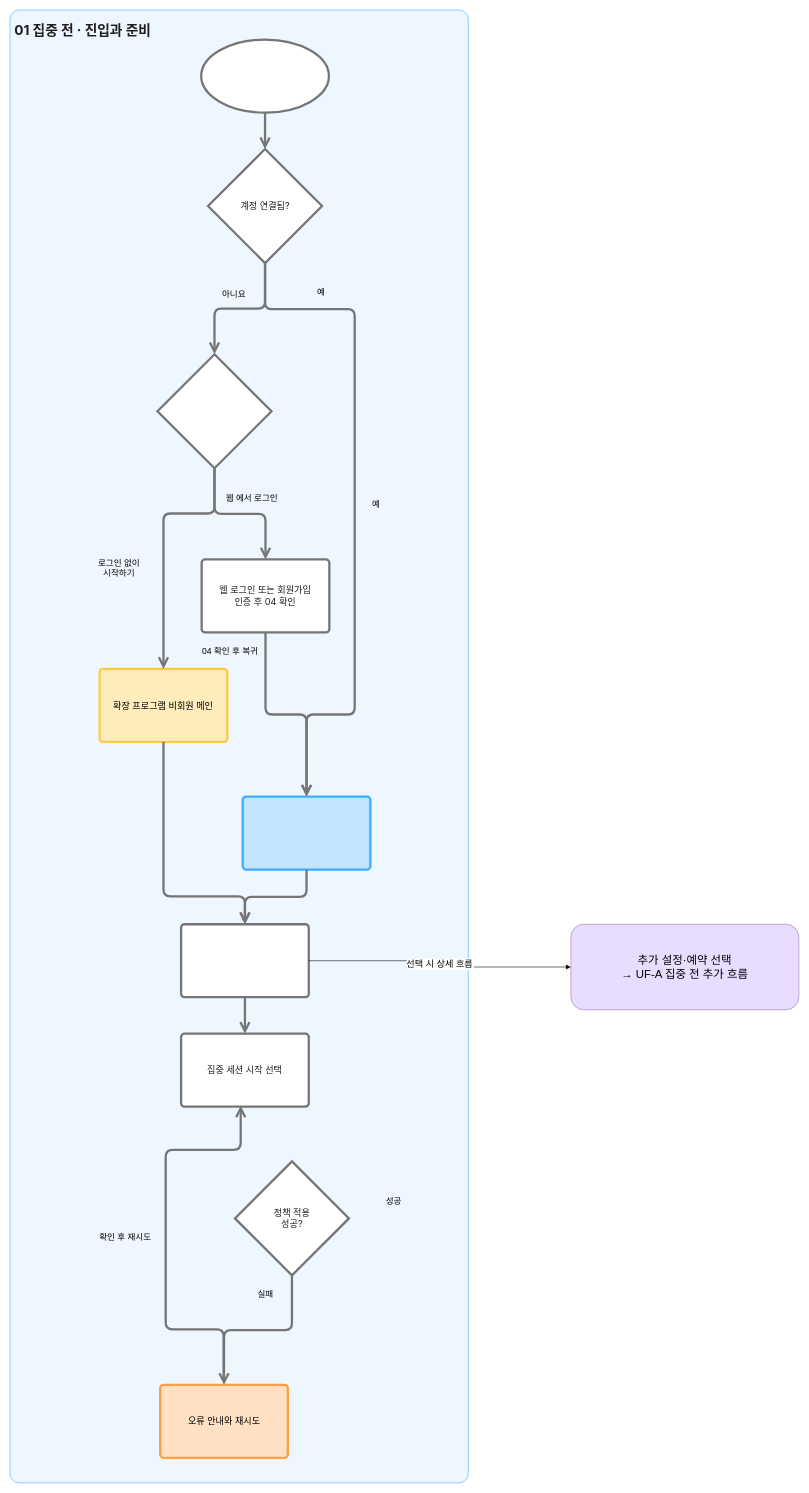
Some shapes in this 809 by 1493 pixel diagram are drawn without their labels. Here are the shapes that lost their labels. From the top down, the centre of each, then its label:
At point 265,75: "확장 프로그램 열기".
At point 214,411: "시작 방식?".
At point 306,832: "확장 프로그램 로그인 메인".
At point 245,960: "집중 시간·사이트 분류·정책 확인 및 설정".
